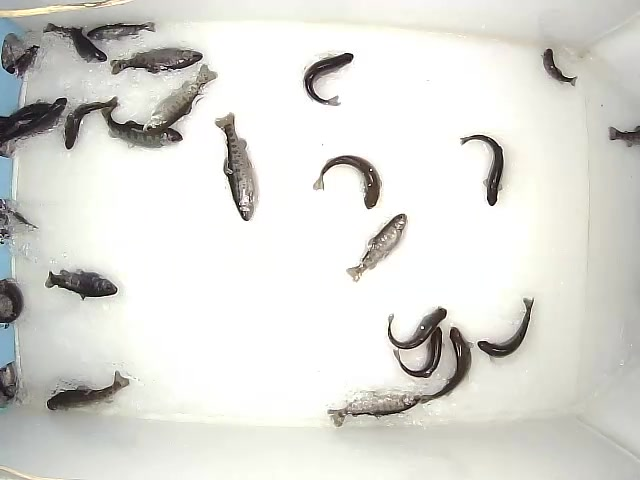fish: (142, 64, 218, 136), (214, 111, 259, 222), (100, 96, 183, 150), (346, 213, 409, 284), (419, 326, 474, 405), (312, 153, 382, 210), (477, 296, 535, 361), (47, 370, 131, 412), (326, 392, 420, 428), (1, 97, 67, 148), (459, 134, 504, 207), (64, 96, 120, 150), (109, 46, 203, 77), (386, 304, 448, 350), (303, 52, 354, 107), (42, 21, 108, 63), (393, 326, 443, 379), (45, 268, 119, 300), (540, 47, 579, 87), (87, 20, 157, 41)
